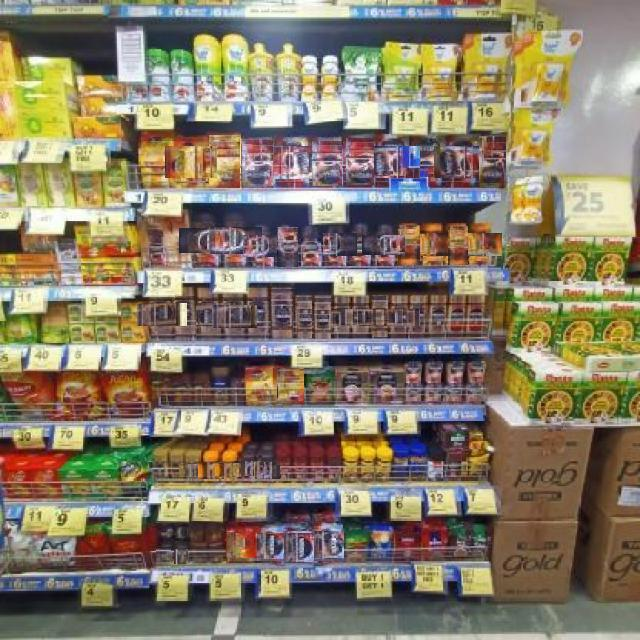Coffee: (140, 131, 173, 188), (208, 134, 240, 188), (368, 145, 420, 178), (435, 146, 487, 178), (165, 146, 217, 178), (412, 136, 443, 187), (242, 138, 273, 188), (267, 147, 315, 179), (478, 135, 506, 188), (311, 140, 342, 186), (179, 227, 233, 253), (208, 228, 262, 254), (345, 138, 374, 185), (136, 303, 187, 326), (270, 288, 293, 338), (184, 303, 235, 325), (248, 288, 269, 339), (175, 288, 196, 339), (276, 367, 304, 404), (247, 368, 275, 405), (212, 305, 257, 328), (350, 223, 373, 265), (413, 233, 454, 256), (461, 233, 502, 256), (397, 224, 420, 265), (300, 225, 323, 266), (315, 234, 357, 256), (362, 234, 405, 255), (276, 226, 298, 267), (283, 533, 314, 562), (311, 531, 344, 558), (242, 236, 283, 257), (447, 225, 468, 265), (252, 533, 284, 559), (226, 533, 257, 558), (409, 296, 427, 339), (377, 308, 420, 326), (314, 296, 331, 339), (429, 296, 446, 338), (371, 296, 388, 337), (322, 309, 363, 326), (296, 296, 312, 338), (340, 310, 381, 325), (198, 461, 224, 479), (253, 462, 280, 479), (234, 461, 261, 476), (154, 454, 168, 482), (170, 455, 184, 482), (216, 462, 241, 477), (180, 463, 206, 477), (157, 548, 171, 563), (175, 548, 188, 564), (158, 524, 172, 538), (174, 528, 187, 538)
